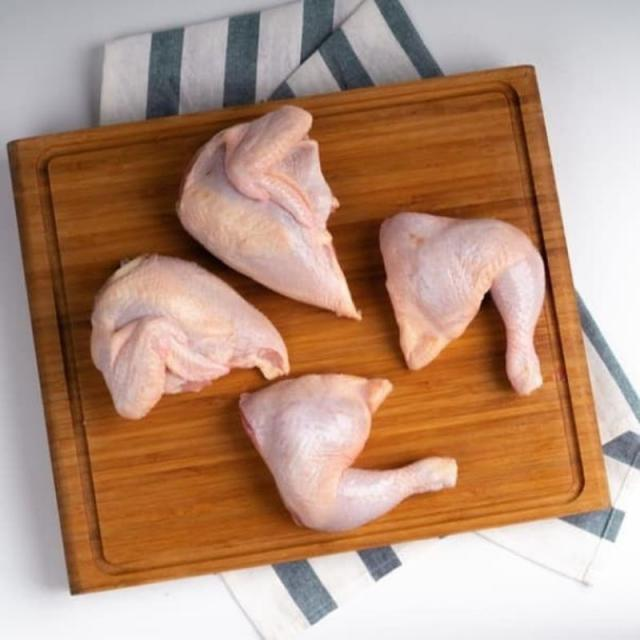chicken: (180, 109, 363, 317), (242, 373, 456, 531), (90, 253, 290, 418), (381, 211, 541, 394)
